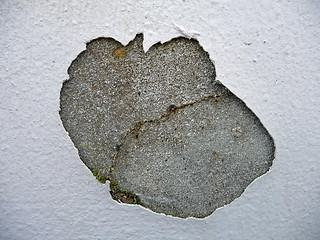Crack: (107, 92, 232, 181)
Spalling: (58, 31, 276, 220)
